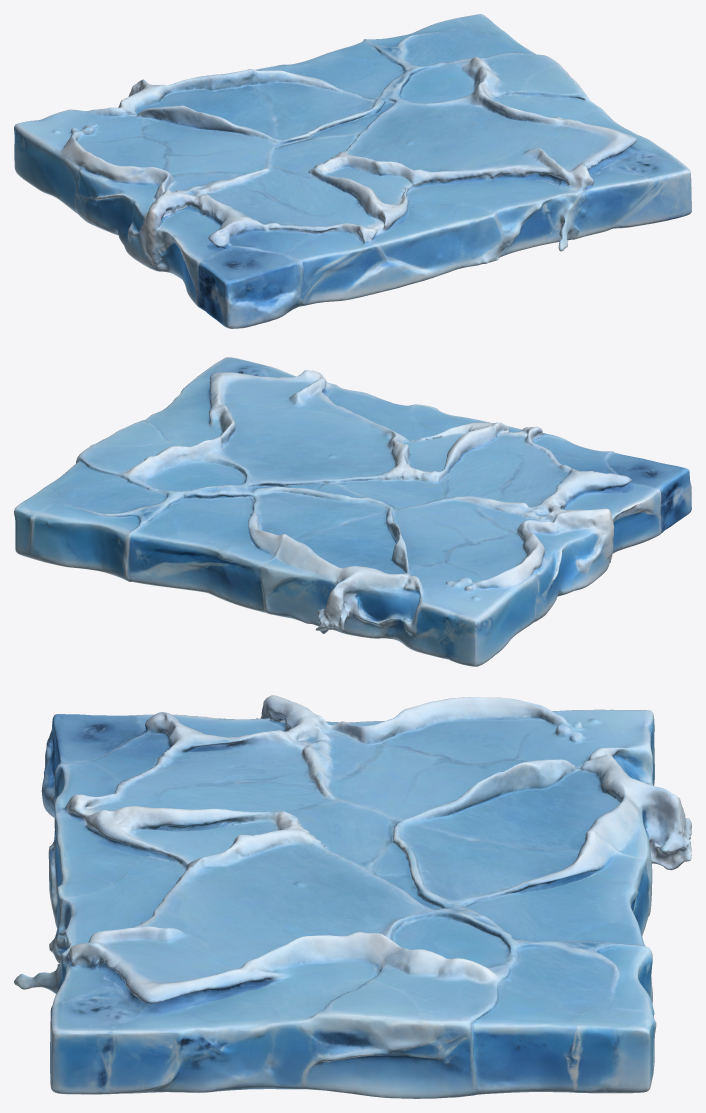
Rendered from Meshy_AI_a_flat_ice_tile_at_a_1115233215_texture.glb.
The picture shows the model from 3 angles, top to bottom: view 1: azimuth 30°, elevation 25°; view 2: azimuth 150°, elevation 25°; view 3: azimuth 270°, elevation 25°; orthographic projection. The views are drawn at different scales.
Bounding box in the file's own units: 2 × 0.295 × 1.78.
1 material, 1 textured.
